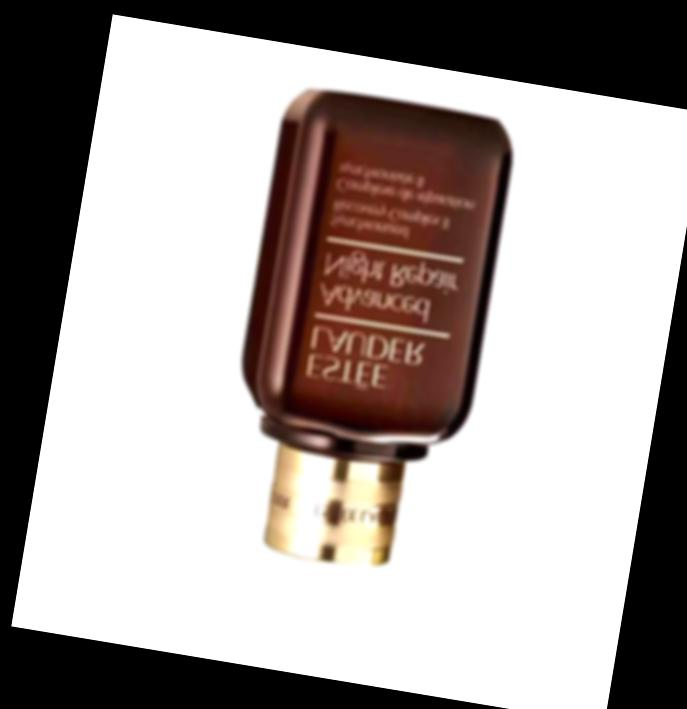cosmetic: (206, 92, 519, 676)
